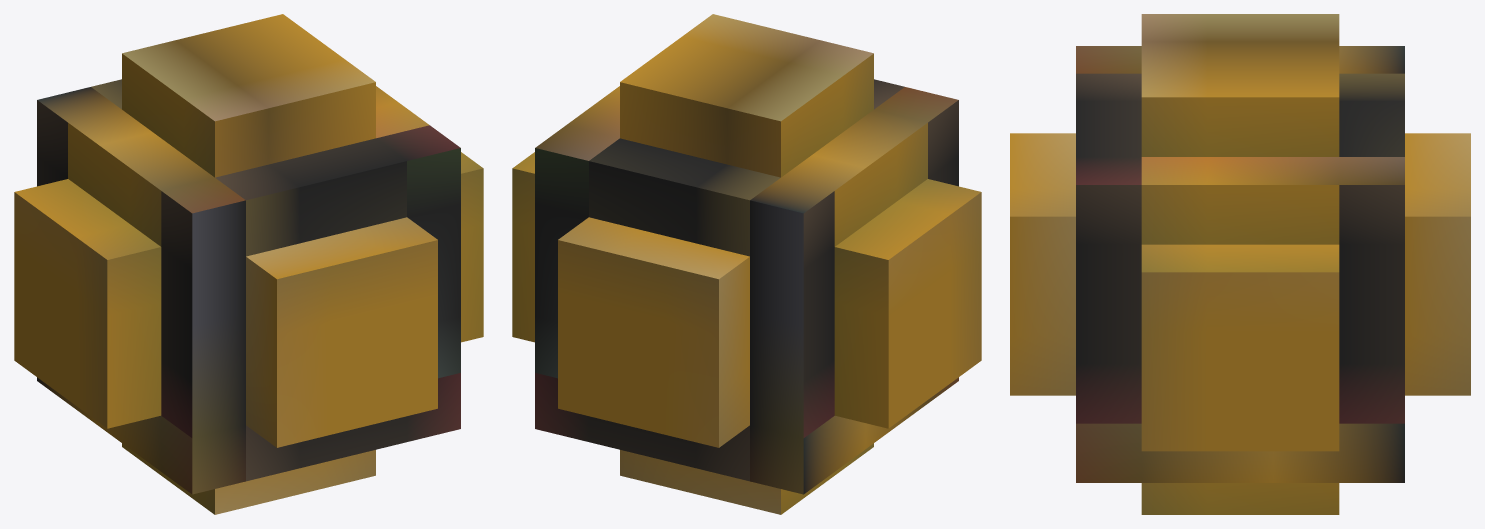
File: BallYellow_00.fbx
3 views of the same model, side by side, from view 1: azimuth 30°, elevation 25°; view 2: azimuth 150°, elevation 25°; view 3: azimuth 270°, elevation 25° (orthographic). The views are drawn at different scales.
Parts seen in each view (by area): view 1: BallYellow_00; view 2: BallYellow_00; view 3: BallYellow_00.
Part boxes in pixels (x1=…): BallYellow_00: x1=14, y1=14, x2=483, y2=514; BallYellow_00: x1=512, y1=14, x2=981, y2=514; BallYellow_00: x1=1010, y1=14, x2=1470, y2=514.
Size of the model in its own units: 35 by 35 by 35.
1 material, 1 textured.
